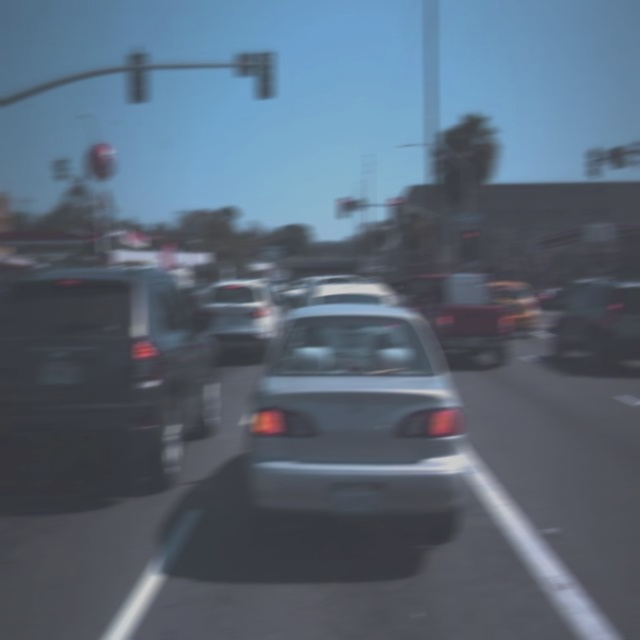stop: (388, 198, 401, 215), (468, 232, 474, 244)
stop left: (87, 234, 101, 258), (337, 197, 351, 217)
stop left traffic light: (87, 234, 101, 258), (337, 197, 351, 217)
stop traffic light: (388, 198, 401, 215), (468, 232, 474, 244)
